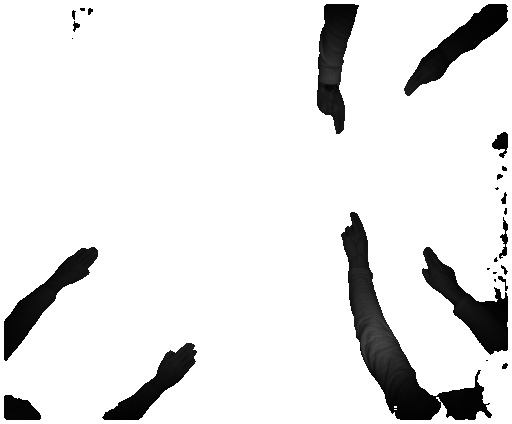hand: (416, 241, 461, 298), (54, 240, 103, 289), (157, 336, 199, 389), (336, 208, 375, 265), (400, 53, 448, 95), (312, 91, 351, 135)
